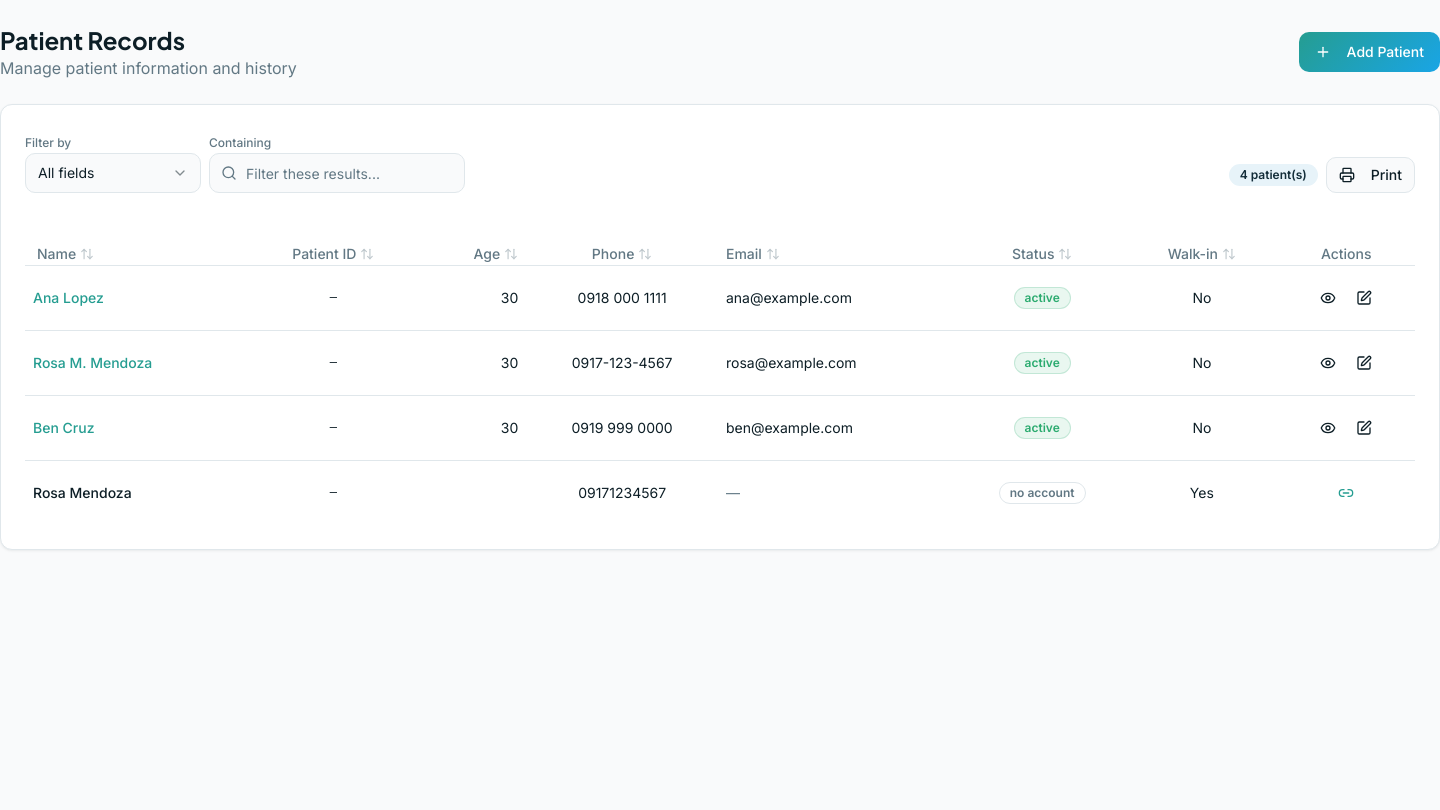
Test case: linking a guest to the account they made › searches accounts by name, phone or email
The width and height of the screenshot is (1440, 810).
Click the button named "Link Rosa Mendoza (09171234567) to an account" at (1346,492), box [1330,476,1362,508]
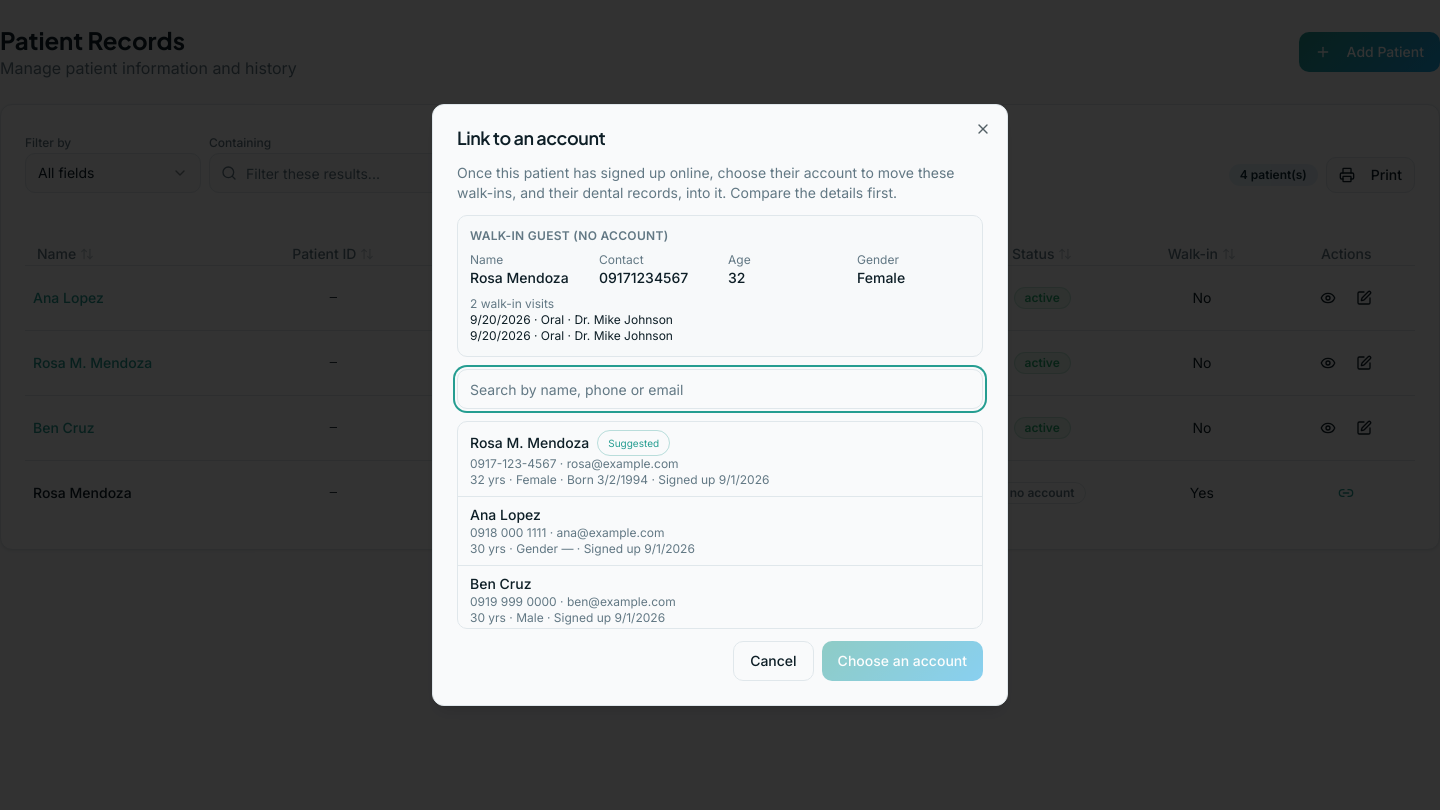
Type "ben@" into the field named "Search patient accounts" at (720,389), box [457,369,983,409]
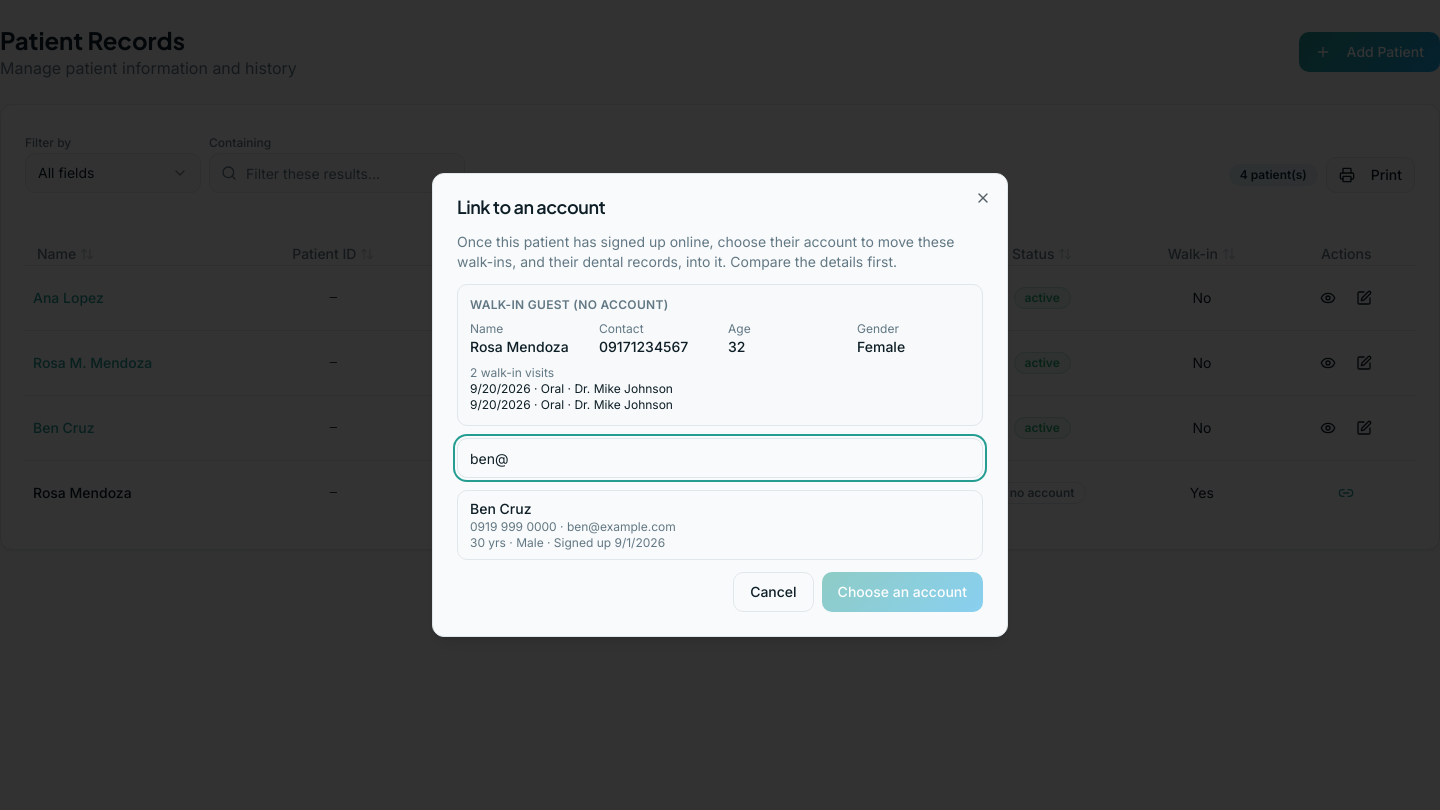
Replace the text in the field named "Search patient accounts" with "nobody here" at (720,458), box [457,438,983,478]
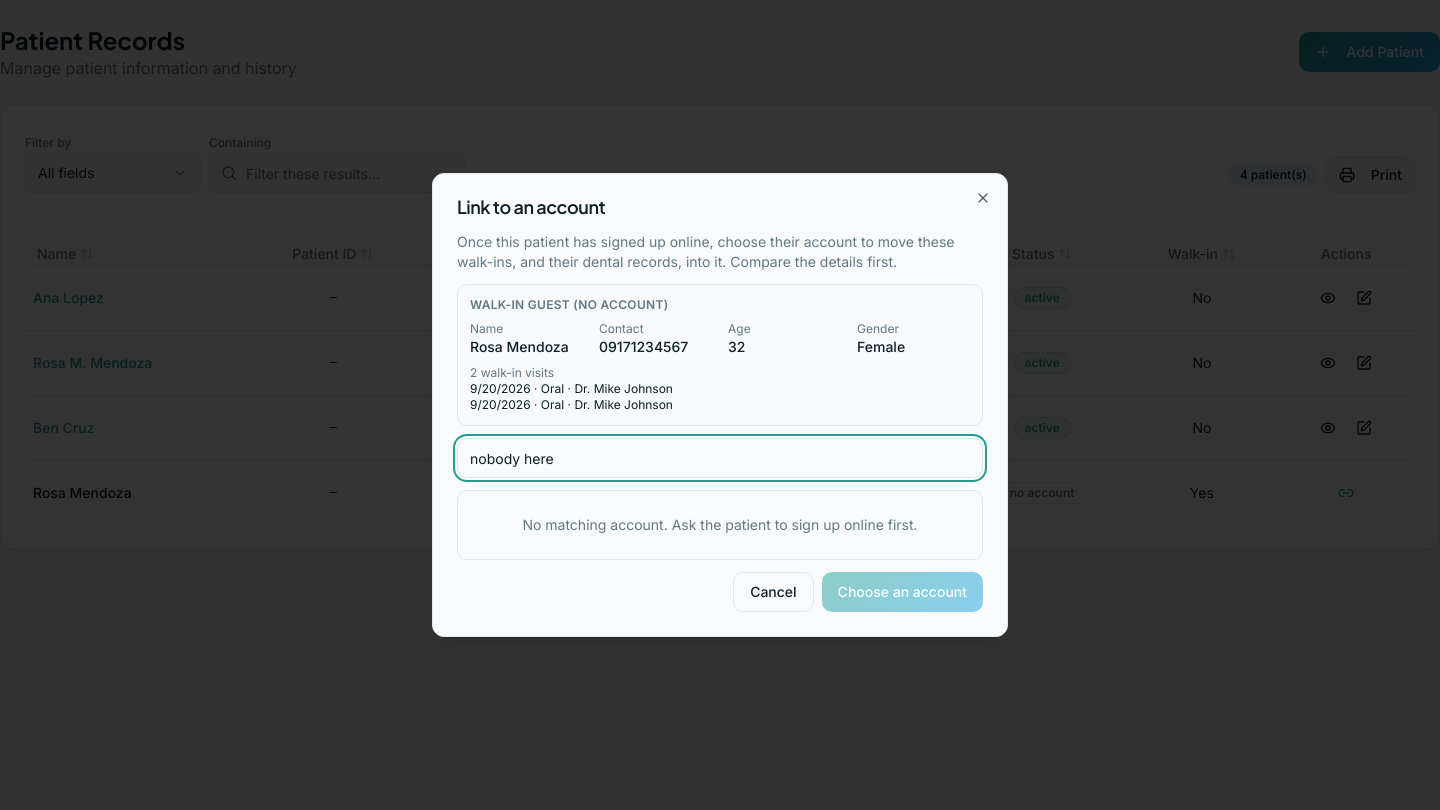
Result: the text "Ask the patient to sign up online first" is shown at [522,516,918,533]
